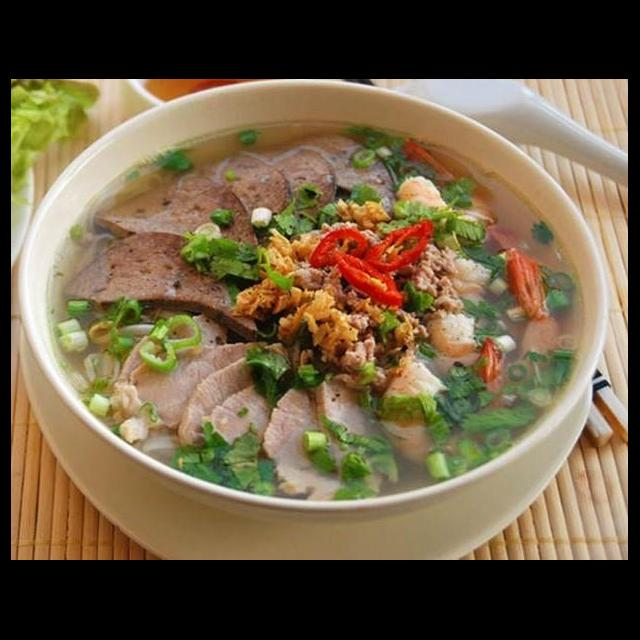gan: (56, 226, 266, 336), (90, 168, 268, 278), (284, 125, 402, 222), (248, 136, 344, 235), (188, 146, 298, 227)
thit bam: (280, 214, 470, 392)
thit heo: (256, 384, 396, 511), (120, 334, 296, 434), (170, 342, 296, 464), (312, 370, 408, 500), (204, 378, 296, 468)
tom: (424, 244, 564, 422), (370, 331, 510, 474), (394, 137, 508, 250)
